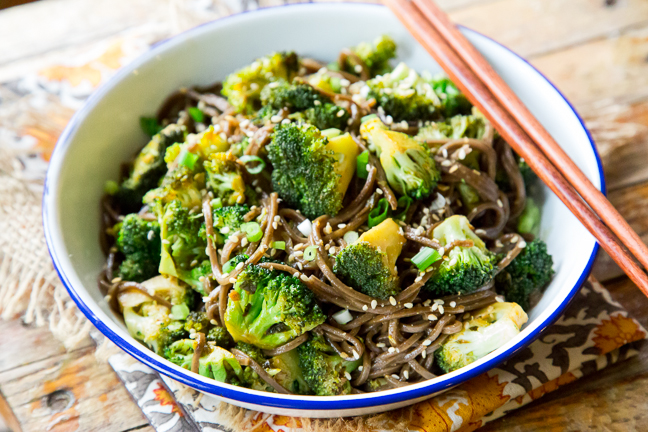Soba: (124, 87, 530, 382)
